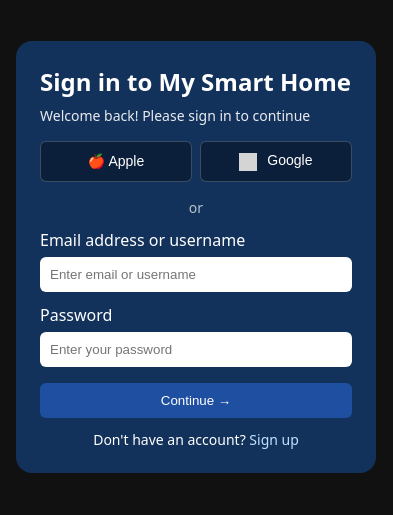
it: Login Component › Form Validation › shows error when submitting with empty email
This screenshot has width=393, height=515.
Type "password123" into the password field with placeholder "Enter your password" at (196, 349), box [40,332,352,367]
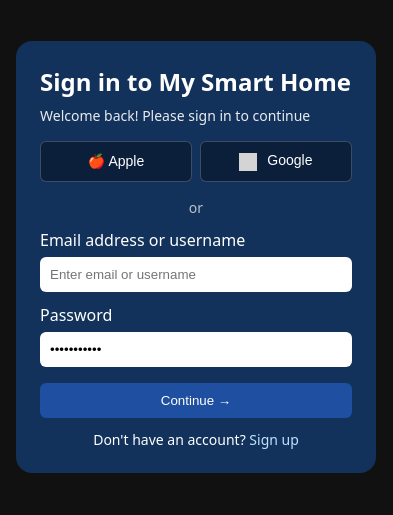
Click the button "Continue →" at (196, 400), box [40,383,352,418]
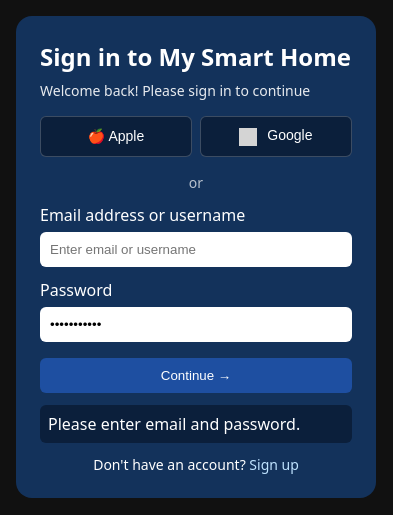
Expected: the text "Please enter email and password." is shown, [40,405,352,443]
